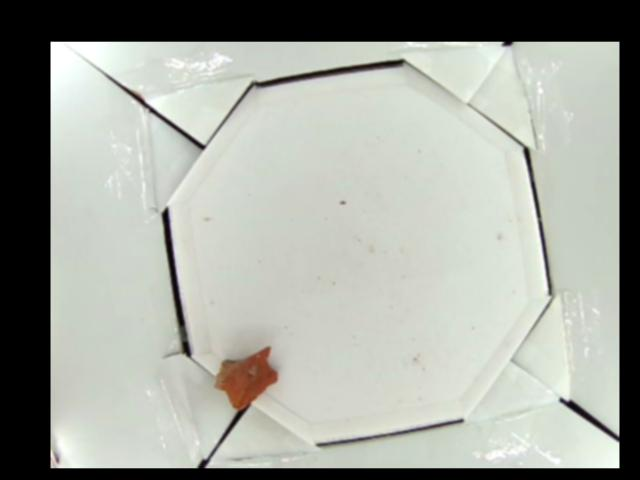Brisk: (214, 344, 278, 412)
